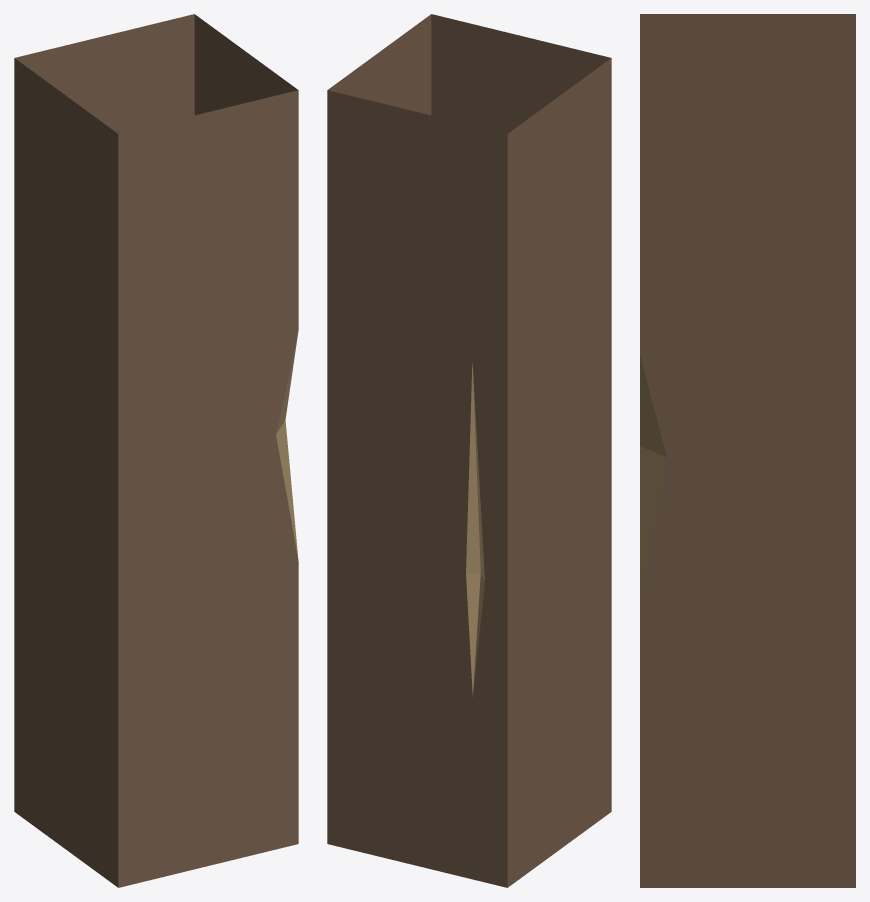
Rendered from Cave_Prop_Support_Wall_Pillar_1.obj.
3 renders of one model, left to right at view 1: azimuth 30°, elevation 25°; view 2: azimuth 150°, elevation 25°; view 3: azimuth 270°, elevation 25°, orthographic. The views are drawn at different scales.
Parts seen in each view (by area): view 1: object1; view 2: object1; view 3: object1.
Boxes of the visible parts, x1,y1,x2,y2 form: object1: [14, 14, 298, 887]; object1: [327, 14, 611, 887]; object1: [640, 14, 855, 887].
Size of the model in its own units: 0.25 by 1 by 0.25.
